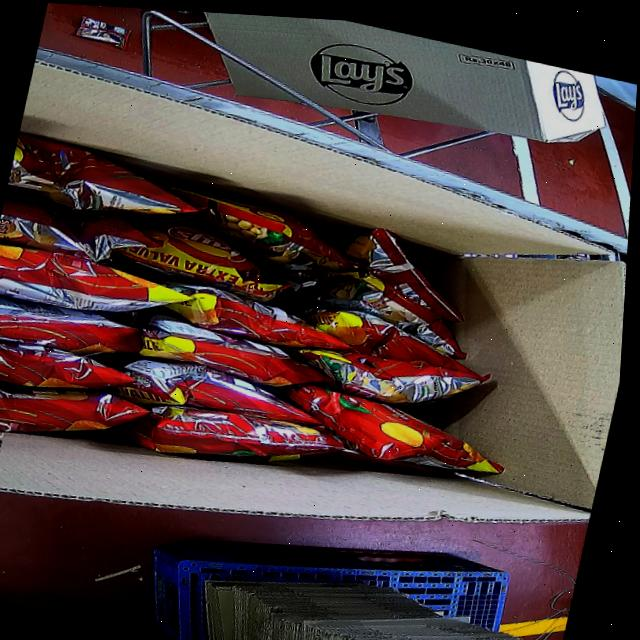MASALA: (0, 131, 555, 542)
